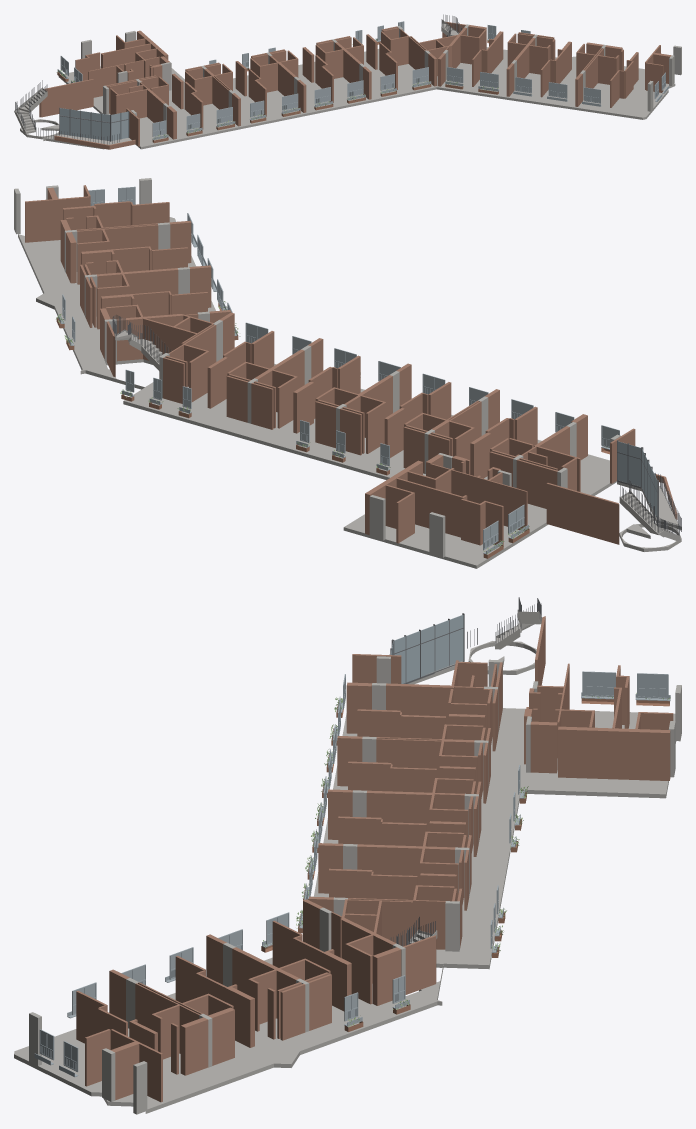
The model's file is revit_nivel_3.glb.
3 views of the same model, one above another, from view 1: azimuth 30°, elevation 25°; view 2: azimuth 150°, elevation 25°; view 3: azimuth 270°, elevation 25° (orthographic). The views are drawn at different scales.
Parts seen in each view (by area): view 1: Revit_PISO 4; view 2: Revit_PISO 4; view 3: Revit_PISO 4.
Boxes of the visible parts, <box> form: Revit_PISO 4: <box>14,14,681,149</box>; Revit_PISO 4: <box>14,178,681,568</box>; Revit_PISO 4: <box>14,597,681,1114</box>.
Size of the model in its own units: 63.55 by 4.46 by 37.83.
